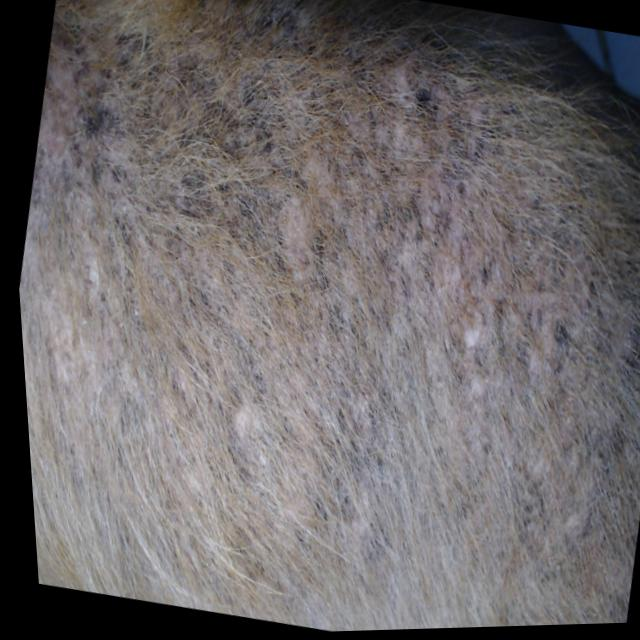demodicosis: (283, 75, 640, 557), (16, 56, 186, 321)
